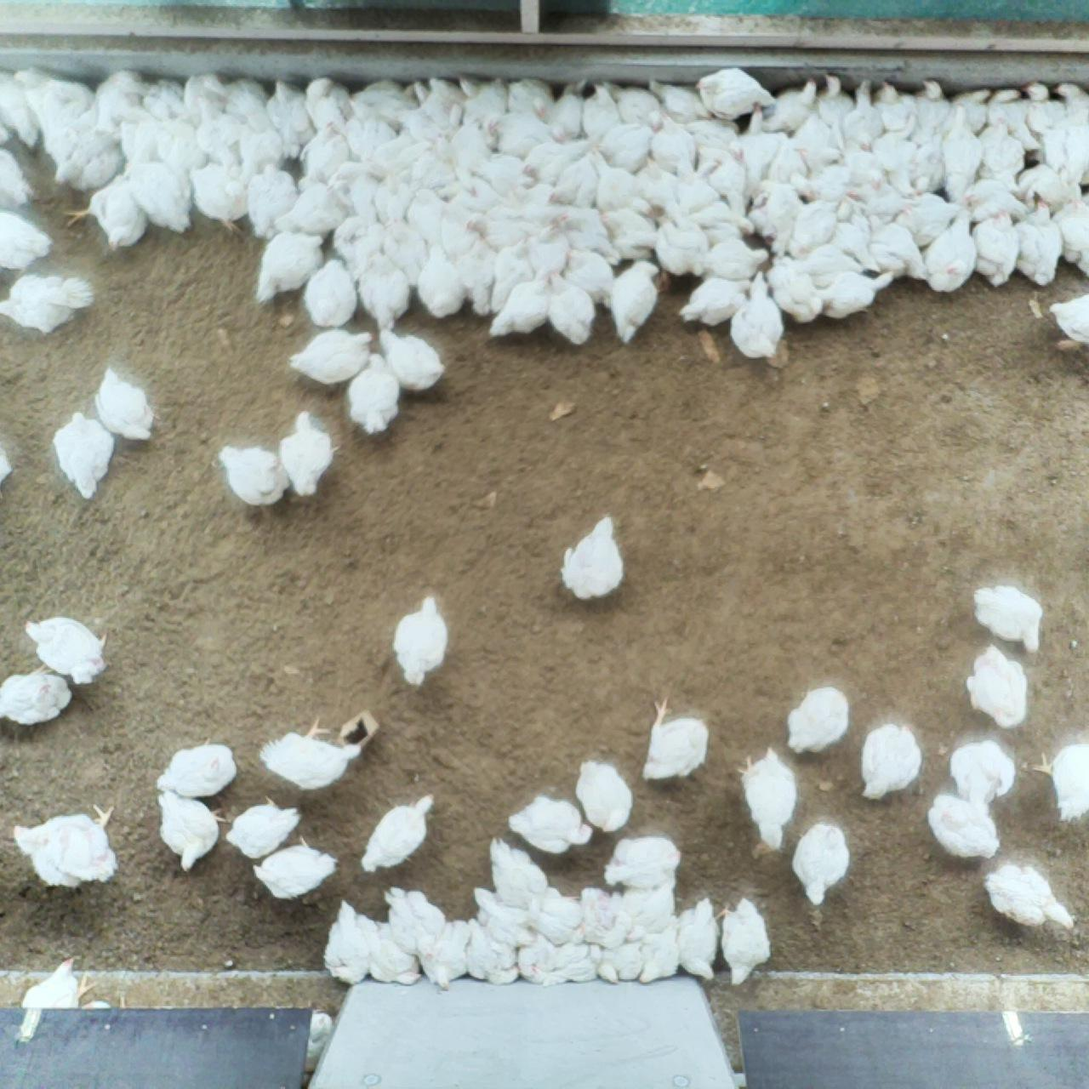chicken: (9, 800, 119, 891), (258, 714, 371, 792), (361, 788, 440, 878), (982, 861, 1078, 935), (63, 170, 148, 252), (14, 67, 95, 153), (0, 269, 100, 338), (21, 613, 110, 689), (735, 744, 796, 853), (50, 406, 117, 502), (155, 791, 231, 875), (638, 696, 712, 782), (559, 512, 627, 604), (119, 156, 197, 236), (968, 579, 1046, 654), (250, 843, 342, 905), (252, 233, 328, 308), (951, 732, 1017, 817), (964, 641, 1029, 727), (713, 896, 773, 988), (392, 591, 450, 686), (278, 406, 338, 497), (89, 365, 158, 444), (288, 327, 377, 388), (792, 819, 855, 905), (225, 794, 306, 860), (728, 271, 787, 361), (506, 795, 593, 856), (342, 348, 402, 435), (355, 248, 412, 339), (583, 148, 654, 221), (153, 738, 239, 798), (0, 660, 74, 729), (485, 267, 556, 338), (734, 102, 790, 191), (859, 724, 923, 801), (210, 446, 292, 506), (53, 124, 122, 195), (324, 900, 379, 989), (925, 792, 999, 858), (486, 837, 552, 911), (694, 66, 779, 123), (922, 212, 981, 294), (187, 158, 248, 237), (600, 832, 683, 890), (607, 257, 663, 342), (1033, 738, 1089, 823), (1012, 198, 1064, 288), (889, 190, 966, 250), (20, 954, 98, 1013), (1018, 80, 1068, 171), (375, 327, 446, 391), (574, 759, 635, 833), (265, 79, 318, 164), (273, 180, 352, 237), (383, 886, 448, 955), (748, 181, 807, 257), (938, 103, 982, 204), (970, 206, 1024, 288), (764, 250, 823, 325), (865, 213, 928, 283), (245, 161, 299, 242), (844, 168, 919, 226), (872, 112, 923, 197), (649, 202, 706, 278), (694, 142, 750, 219), (1051, 77, 1089, 190), (470, 882, 538, 945), (293, 118, 351, 191), (303, 257, 360, 331), (817, 268, 898, 320), (675, 274, 753, 327), (982, 84, 1039, 156), (790, 687, 851, 754), (346, 78, 420, 133), (487, 179, 575, 225), (597, 76, 668, 133), (784, 192, 841, 263), (519, 138, 595, 191), (365, 916, 423, 985), (465, 917, 521, 988), (673, 896, 719, 982), (954, 172, 1031, 223), (414, 242, 464, 319), (487, 239, 538, 313), (544, 269, 595, 343), (321, 113, 401, 160), (841, 76, 888, 156), (829, 194, 876, 274), (758, 77, 821, 136), (450, 116, 497, 195), (539, 76, 592, 146), (977, 117, 1027, 191), (419, 919, 474, 986), (562, 242, 616, 310), (0, 68, 44, 151), (484, 107, 555, 158), (381, 214, 429, 289), (597, 204, 659, 262), (89, 68, 149, 127), (0, 208, 56, 271), (361, 130, 433, 179), (628, 879, 682, 944), (1015, 161, 1084, 211), (815, 73, 858, 153), (328, 214, 384, 275), (458, 236, 500, 317), (1050, 191, 1089, 278), (766, 131, 813, 203), (556, 213, 621, 265), (631, 155, 683, 220), (193, 92, 238, 167), (650, 110, 698, 180), (465, 148, 536, 195), (458, 72, 515, 130), (787, 114, 844, 171), (303, 73, 355, 135), (380, 102, 453, 146), (869, 75, 919, 139), (600, 885, 650, 949), (699, 237, 770, 282), (788, 243, 859, 288), (526, 885, 582, 942), (151, 115, 209, 170), (325, 161, 379, 220), (239, 106, 288, 171), (295, 1006, 338, 1080), (672, 154, 725, 214), (49, 107, 100, 169), (546, 937, 606, 988), (693, 199, 758, 246), (405, 187, 455, 248), (463, 212, 543, 250), (681, 111, 742, 160), (905, 126, 948, 195), (842, 131, 889, 194), (601, 120, 659, 171), (440, 202, 488, 262), (646, 75, 710, 120), (639, 919, 684, 983), (216, 77, 270, 130), (411, 132, 459, 191), (503, 76, 560, 125), (580, 81, 625, 143), (575, 886, 623, 944), (1046, 287, 1089, 351), (429, 175, 502, 212), (115, 106, 160, 166), (412, 75, 466, 125), (797, 165, 861, 207), (907, 74, 949, 138), (528, 221, 570, 283), (373, 170, 416, 229), (138, 76, 186, 126), (512, 930, 556, 984), (946, 86, 993, 136), (184, 73, 230, 123), (0, 147, 39, 205), (597, 940, 646, 986), (555, 203, 614, 237), (0, 445, 16, 485)
